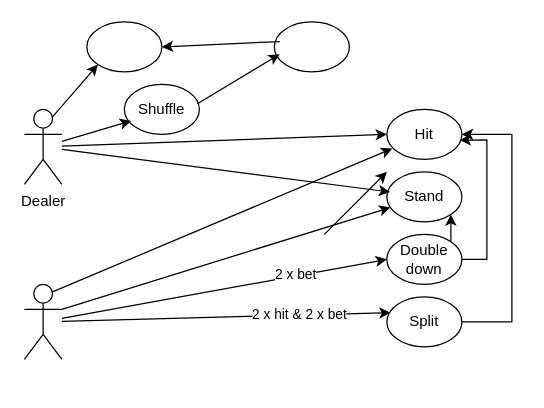
Image size: 544x408. Some labels were removed from this diagram. Here are the shapes that lost their labels. From the top down, the centre of each, then its label:
At pixel 124 46: "Deal card".
At pixel 311 46: "Shoe".
At pixel 42 321: "Player".
